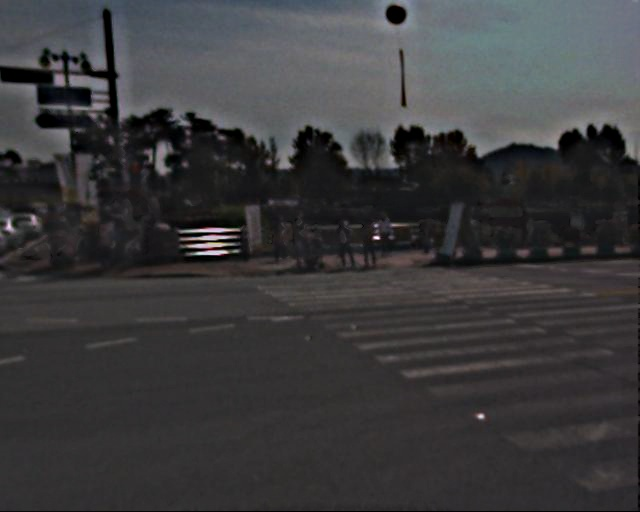person: (39, 201, 83, 268), (93, 211, 128, 272), (289, 209, 314, 269), (361, 216, 382, 268), (335, 219, 356, 269), (272, 214, 292, 263), (379, 208, 397, 253)
